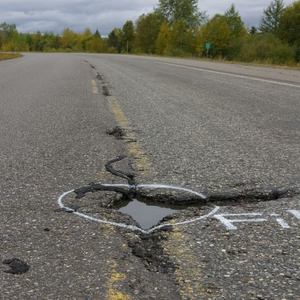pothole: (105, 185, 193, 236)
